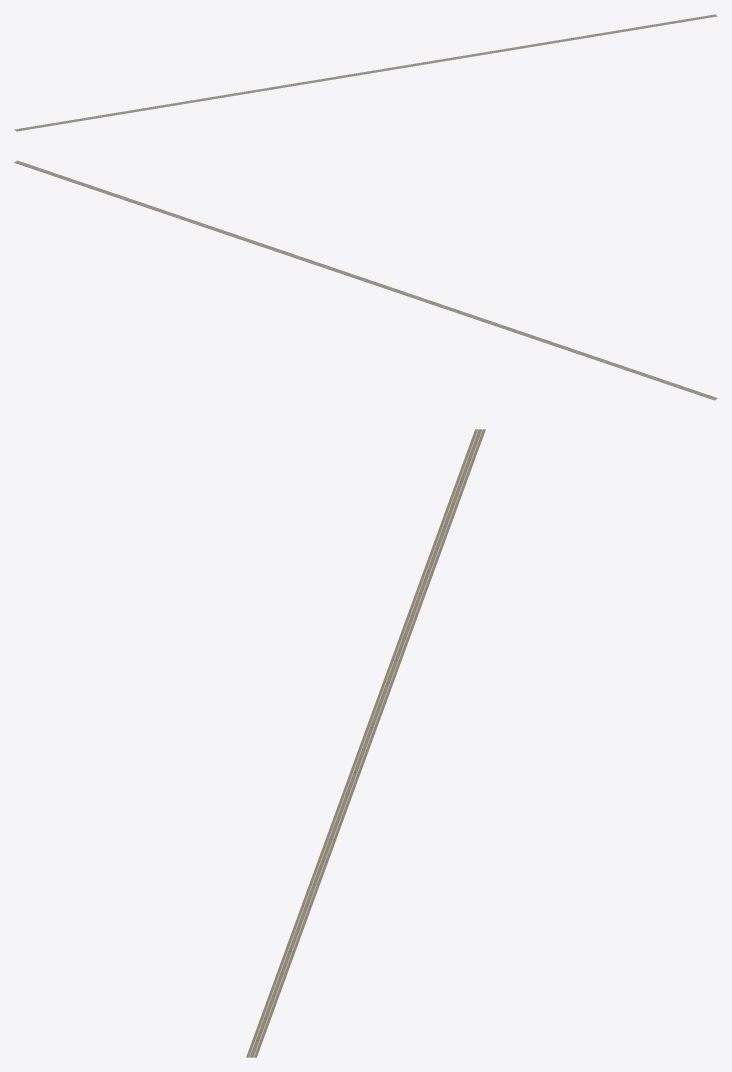
The picture shows the model from 3 angles, top to bottom: view 1: azimuth 30°, elevation 25°; view 2: azimuth 150°, elevation 25°; view 3: azimuth 270°, elevation 25°; orthographic projection. The views are drawn at different scales.
Parts seen in each view (by area): view 1: rail; view 2: rail; view 3: rail.
Boxes of the visible parts, <box> form: rail: <box>14,14,717,131</box>; rail: <box>14,160,717,400</box>; rail: <box>246,429,485,1057</box>.
Size of the model in its own units: 500 by 0.04 by 80.72.
